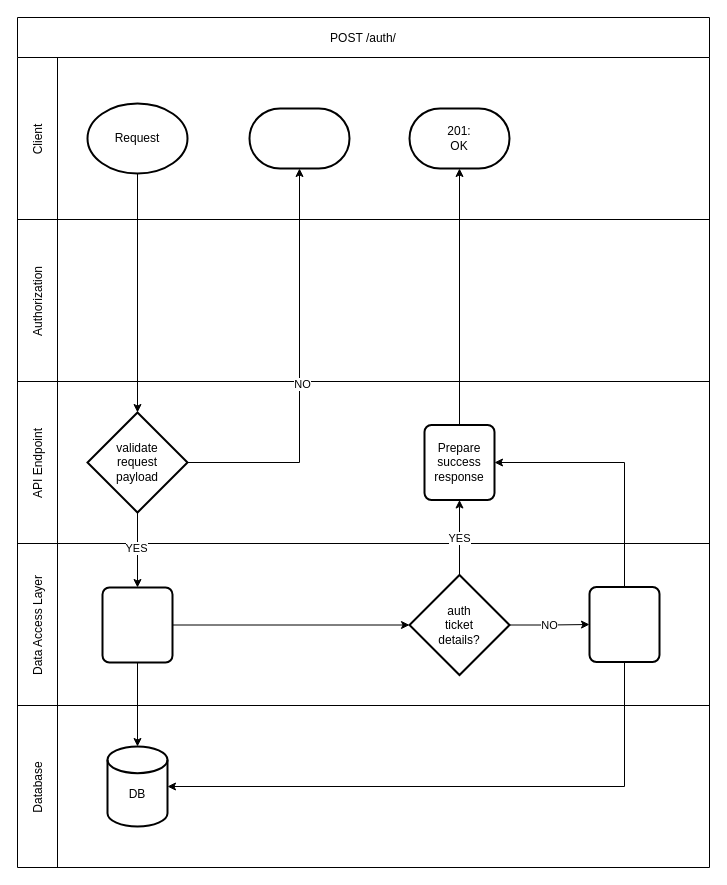
The diagram is 727 pixels wide and 885 high, and some of its shapes have lost their labels. The shapes that lost their labels are listed below. From the top down, each one's centre as x and y in pixels, then its label:
At (299,138): "400: Bad Request".
At (137,624): "fetch auth ticket".
At (624,624): "create auth ticket".
